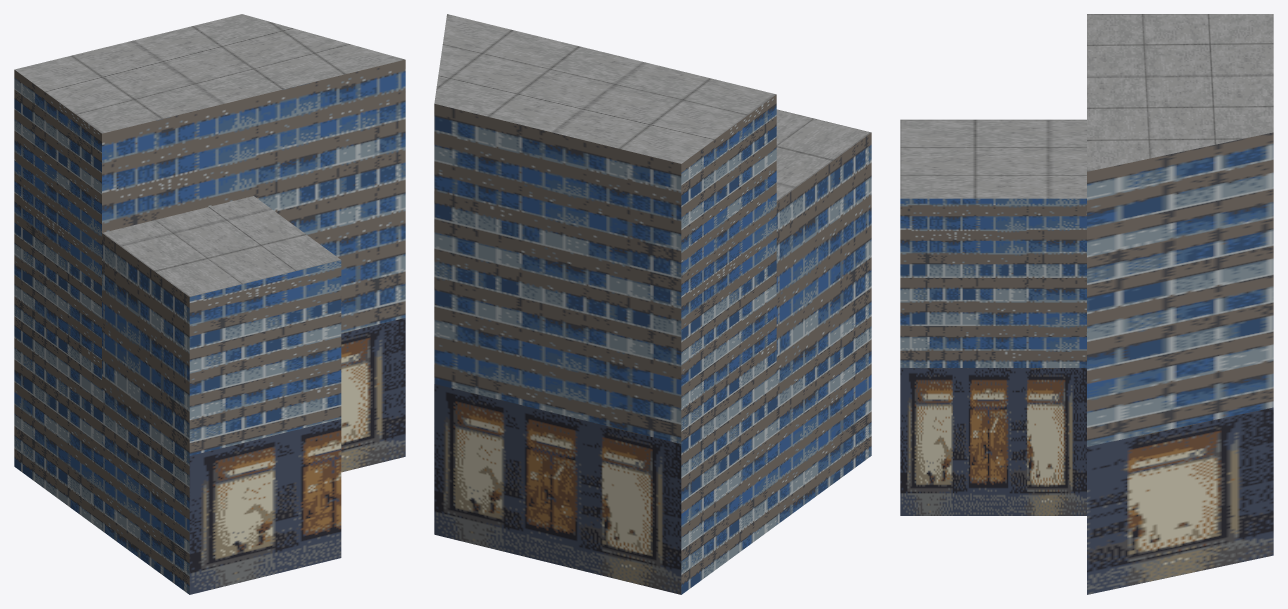
The model's file is Edificio1.fbx.
The picture shows the model from 3 angles, left to right: view 1: azimuth 30°, elevation 25°; view 2: azimuth 150°, elevation 25°; view 3: azimuth 270°, elevation 25°; orthographic projection. The views are drawn at different scales.
Parts seen in each view (by area): view 1: Cube.001; view 2: Cube.001; view 3: Cube.001.
Part boxes in pixels (left/top/right/bottom): Cube.001: left=14, top=14, right=405, bottom=594; Cube.001: left=434, top=14, right=871, bottom=594; Cube.001: left=900, top=14, right=1273, bottom=594.
Size of the model in its own units: 400 by 500 by 400.
3 materials, 3 textured.
